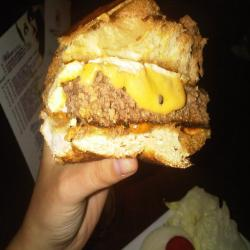burger: (41, 5, 219, 180)
ketchup: (161, 234, 198, 250)
